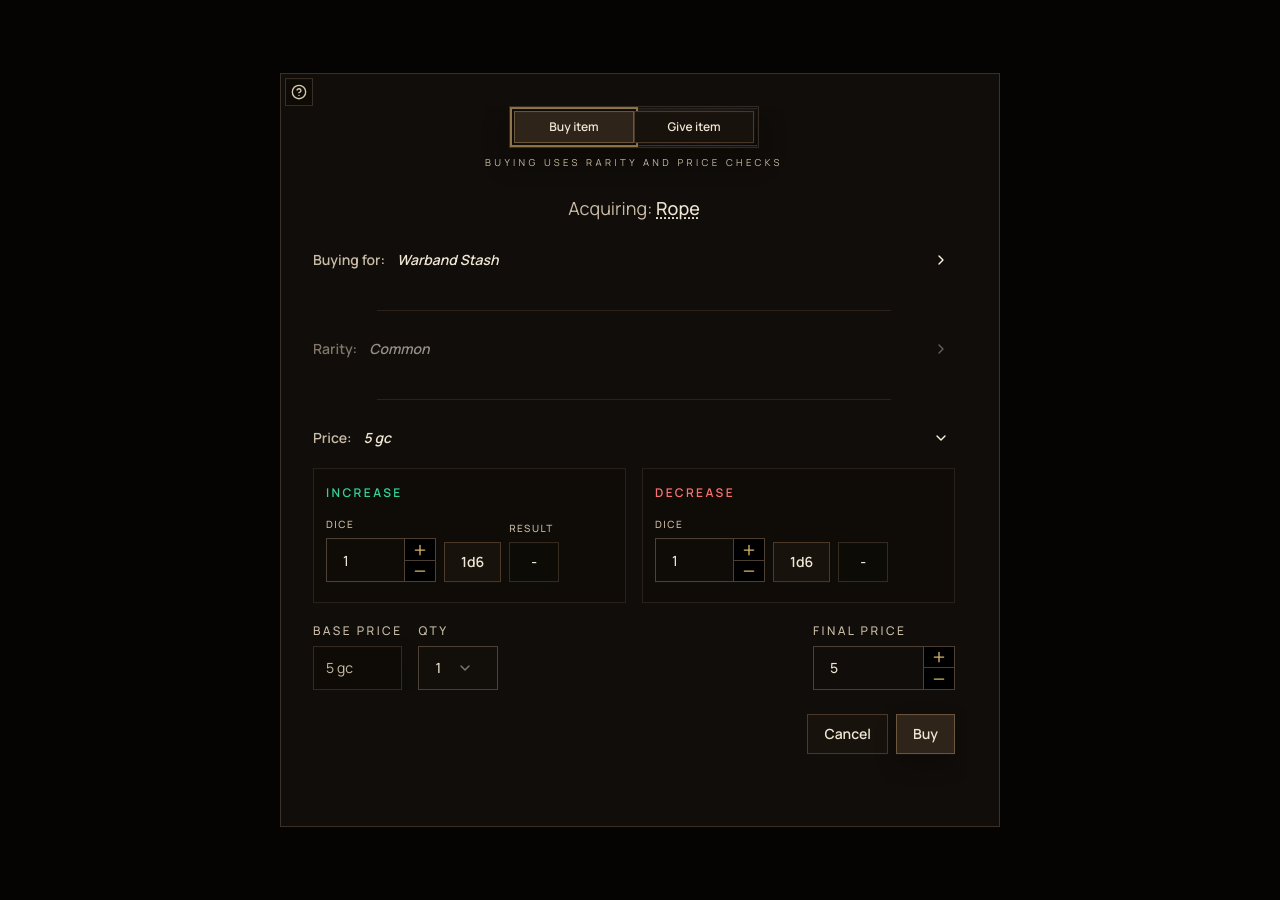
it: AcquireItemDialog: one request per purchase (BUG-07, ECON-PERF-01) › shows the server's warnings as toasts: the purchase went ahead
Click the button "Buy": [926, 734] box [896, 714, 955, 754]
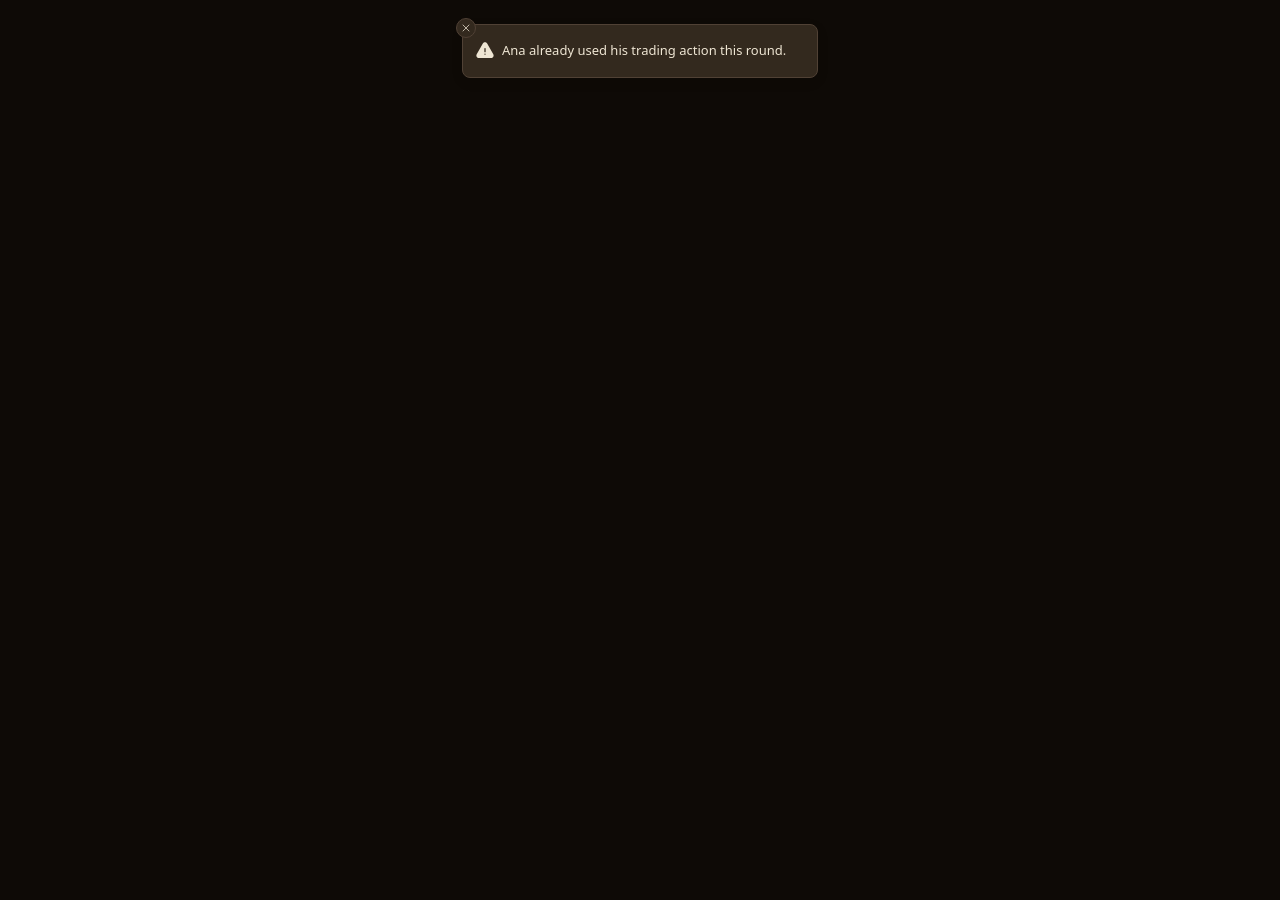
Check: the text "Ana already used his trading action this round." is shown, box [502, 41, 786, 60]
